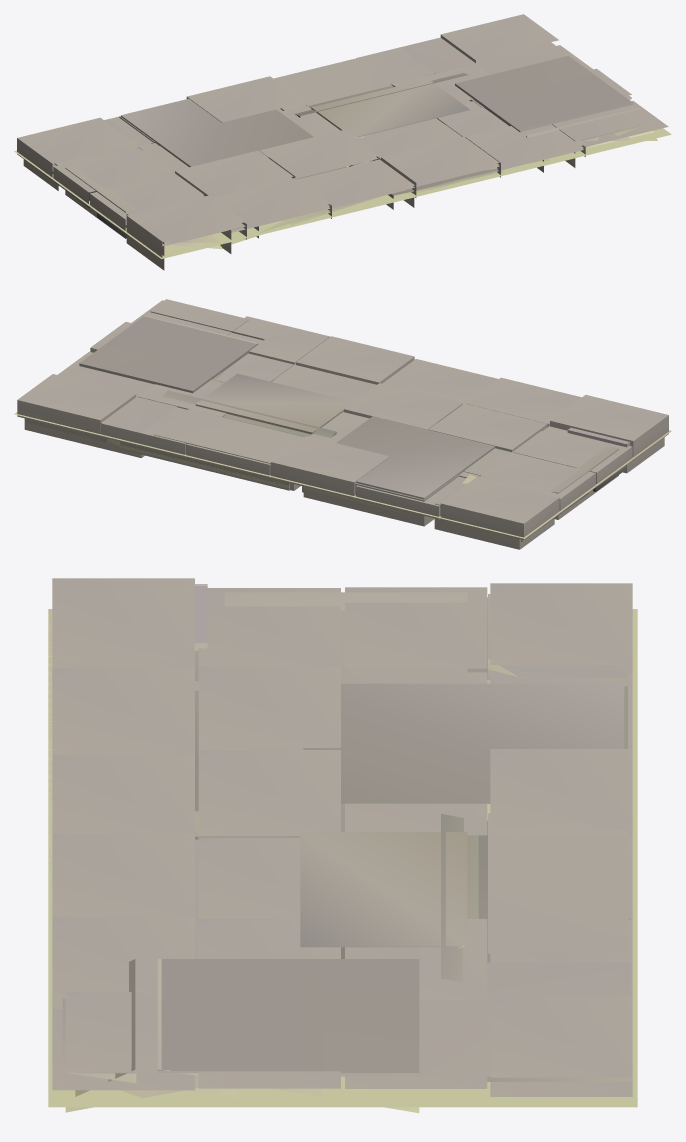
The model's file is tile.glb.
3 renders of one model, top to bottom at view 1: azimuth 30°, elevation 25°; view 2: azimuth 150°, elevation 25°; view 3: azimuth 270°, elevation 25°, orthographic. The views are drawn at different scales.
Visible parts, largest first — view 1: TileC_0, TileA_0, TileB_2, TileC_3, TileC_2, TileB_1, TileA_1, TileC_1, TileB_0, TileA_2, TileA_3; view 2: TileC_0, TileA_0, TileB_2, TileC_2, TileC_3, TileC_1, TileB_1, TileA_1, TileA_2, TileB_0, TileB_3, TileA_3; view 3: TileC_0, TileA_0, TileB_2, TileB_1, TileC_3, TileC_2, TileA_1, TileC_1, TileB_0, TileB_3.
Boxes of the visible parts, x1,y1,x2,y2 form: TileC_0: (17,58,668,259); TileA_0: (14,38,657,260); TileB_2: (97,56,654,246); TileC_3: (17,38,631,255); TileC_2: (40,14,631,259); TileB_1: (52,86,503,203); TileA_1: (54,79,575,263); TileC_1: (17,42,583,234); TileB_0: (23,73,671,258); TileA_2: (23,121,656,270); TileA_3: (50,76,657,266); TileC_0: (17,300,668,539); TileA_0: (63,299,671,539); TileB_2: (79,311,626,492); TileC_2: (17,351,668,539); TileC_3: (101,361,668,536); TileC_1: (21,380,632,539); TileB_1: (79,352,495,498); TileA_1: (101,319,664,542); TileA_2: (24,413,664,549); TileB_0: (14,345,649,540); TileB_3: (25,315,595,541); TileA_3: (230,411,638,544); TileC_0: (52,587,632,1096); TileA_0: (48,586,637,1107); TileB_2: (75,814,478,1096); TileB_1: (158,683,624,1072); TileC_3: (52,583,632,1088); TileC_2: (52,578,632,1086); TileA_1: (66,592,627,1098); TileC_1: (52,664,632,1093); TileB_0: (48,597,637,1107); TileB_3: (157,679,490,1113).
Size of the model in its own units: 2 by 0.1154 by 1.
